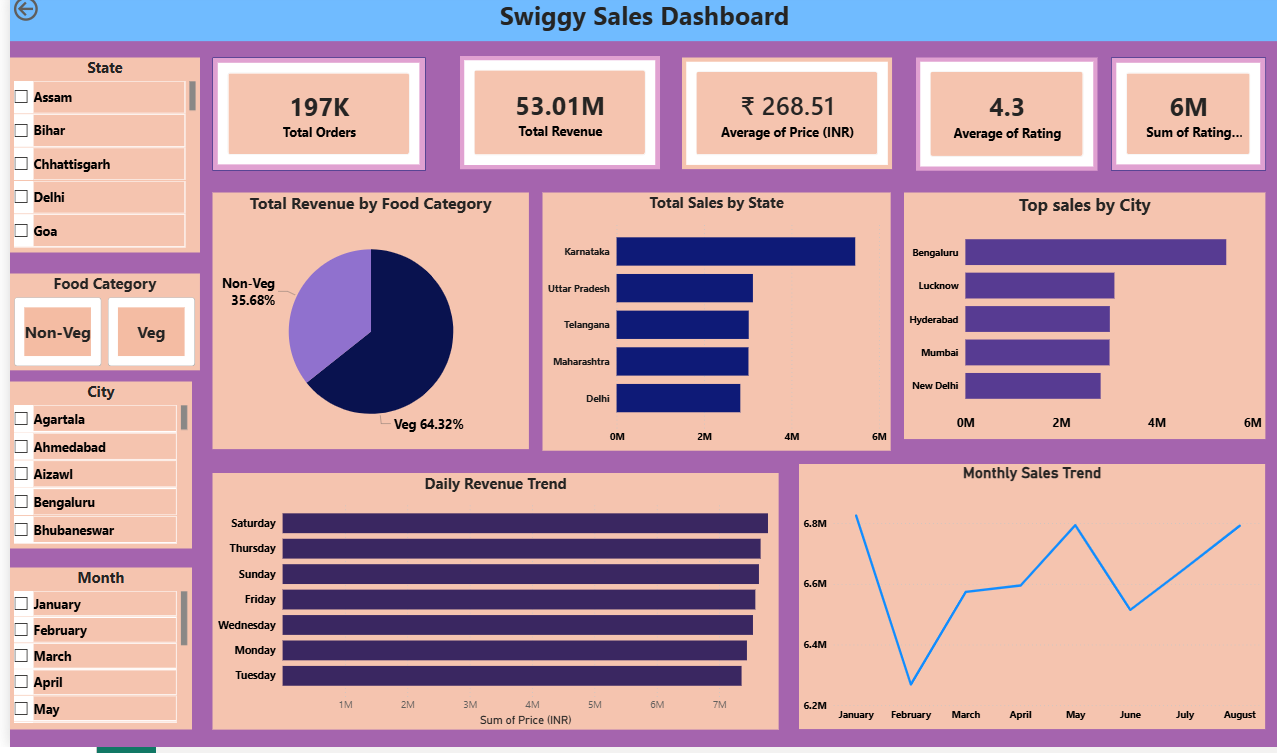

The page's visual inventory and layout, read from the dashboard file:
{"tool":"powerbi","page":{"name":"Page 1","canvas":[1600,950],"ordinal":0},"visuals":[{"type":"cardVisual","title":"Total Orders","fields":{"Data":["swiggy_data.Total Orders"]},"box":[256,81.9,268.6,142.7],"z":0},{"type":"lineChart","title":" Monthly Sales Trend","fields":{"Y":["Sum(swiggy_data.Price (INR))"],"Category":["swiggy_data.Order Date.Variation.Date Hierarchy.Month"]},"box":[994.8,593.9,587.6,333.7],"z":1000},{"type":"clusteredBarChart","title":"Total Sales by State","fields":{"Y":["Sum(swiggy_data.Price (INR))"],"Category":["swiggy_data.State"]},"box":[671.6,251.8,438.6,325.3],"z":2000},{"type":"clusteredBarChart","title":"Top sales by City","fields":{"Category":["swiggy_data.City"],"Y":["Sum(swiggy_data.Price (INR))"]},"box":[1127,251.8,455.4,310.6],"z":3000},{"type":"cardVisual","fields":{"Data":["swiggy_data.Total Revenue"]},"box":[566.7,79.8,251.8,142.7],"z":4000},{"type":"cardVisual","fields":{"Data":["Avg(swiggy_data.Rating)"]},"box":[1141.7,81.9,228.8,142.7],"z":5000},{"type":"listSlicer","fields":{"Values":["swiggy_data.State"]},"box":[0,81.9,239.3,245.6],"z":6000},{"type":"listSlicer","fields":{"Values":["swiggy_data.City"]},"box":[0,489,228.8,209.9],"z":7000},{"type":"listSlicer","fields":{"Values":["swiggy_data.Order Date.Variation.Date Hierarchy.Month"]},"box":[0,724.1,228.8,203.6],"z":8000},{"type":"cardVisual","fields":{"Data":["Avg(swiggy_data.Price (INR))"]},"box":[845.8,81.9,264.4,140.6],"z":9000},{"type":"textbox","box":[0,0,1599.2,60.9],"z":10000},{"type":"pieChart","fields":{"Category":["swiggy_data.Food Category"],"Y":["swiggy_data.Total Revenue"]},"box":[256,251.8,398.8,323.2],"z":11000},{"type":"advancedSlicerVisual","fields":{"Values":["swiggy_data.Food Category"]},"box":[0,352.6,239.3,121.7],"z":12000},{"type":"clusteredBarChart","title":"Daily Revenue Trend","fields":{"Category":["swiggy_data.Day Name"],"Y":["Sum(swiggy_data.Price (INR))"]},"box":[256,604.4,713.6,323.2],"z":12001},{"type":"actionButton","box":[0,0,100,40],"z":12002},{"type":"cardVisual","title":"Total Orders","fields":{"Data":["Sum(swiggy_data.Rating Count)"]},"box":[1387.3,81.9,195.2,142.7],"z":12003}]}

Visuals, with their boxes in screenshot pixels (x1, y1, x2, y2), scaled from the page's 1600x950 canvas onto the 1277x753 screenshot:
"Total Orders" cardVisual: [204, 65, 419, 178]
" Monthly Sales Trend" lineChart: [794, 471, 1263, 735]
"Total Sales by State" clusteredBarChart: [536, 200, 886, 457]
"Top sales by City" clusteredBarChart: [899, 200, 1263, 446]
cardVisual - swiggy_data.Total Revenue: [452, 63, 653, 176]
cardVisual - Avg(swiggy_data.Rating): [911, 65, 1094, 178]
listSlicer - swiggy_data.State: [0, 65, 191, 260]
listSlicer - swiggy_data.City: [0, 388, 183, 554]
listSlicer - swiggy_data.Order Date.Variation.Date Hierarchy.Month: [0, 574, 183, 735]
cardVisual - Avg(swiggy_data.Price (INR)): [675, 65, 886, 176]
textbox: [0, 0, 1276, 48]
pieChart - swiggy_data.Food Category x swiggy_data.Total Revenue: [204, 200, 523, 456]
advancedSlicerVisual - swiggy_data.Food Category: [0, 279, 191, 376]
"Daily Revenue Trend" clusteredBarChart: [204, 479, 774, 735]
actionButton: [0, 0, 80, 32]
"Total Orders" cardVisual: [1107, 65, 1263, 178]
